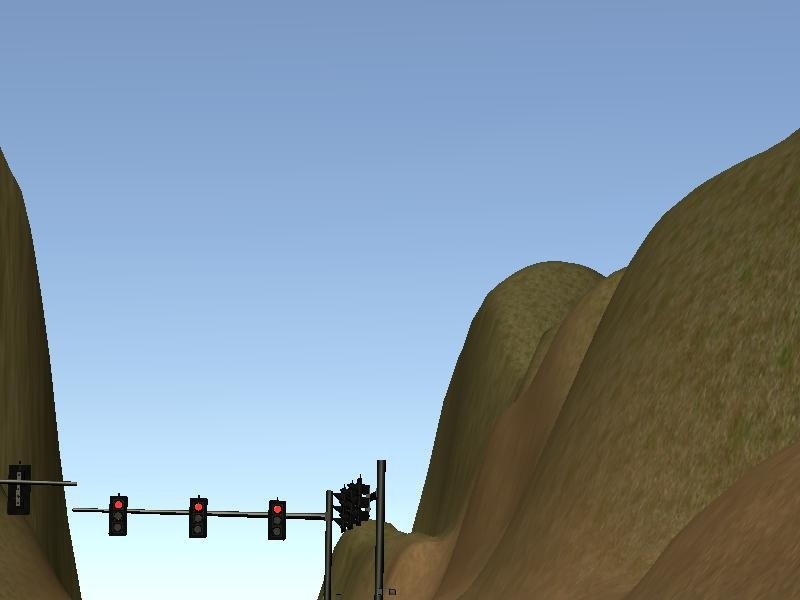RED: (107, 495, 128, 537), (188, 497, 209, 539), (267, 497, 288, 539)
